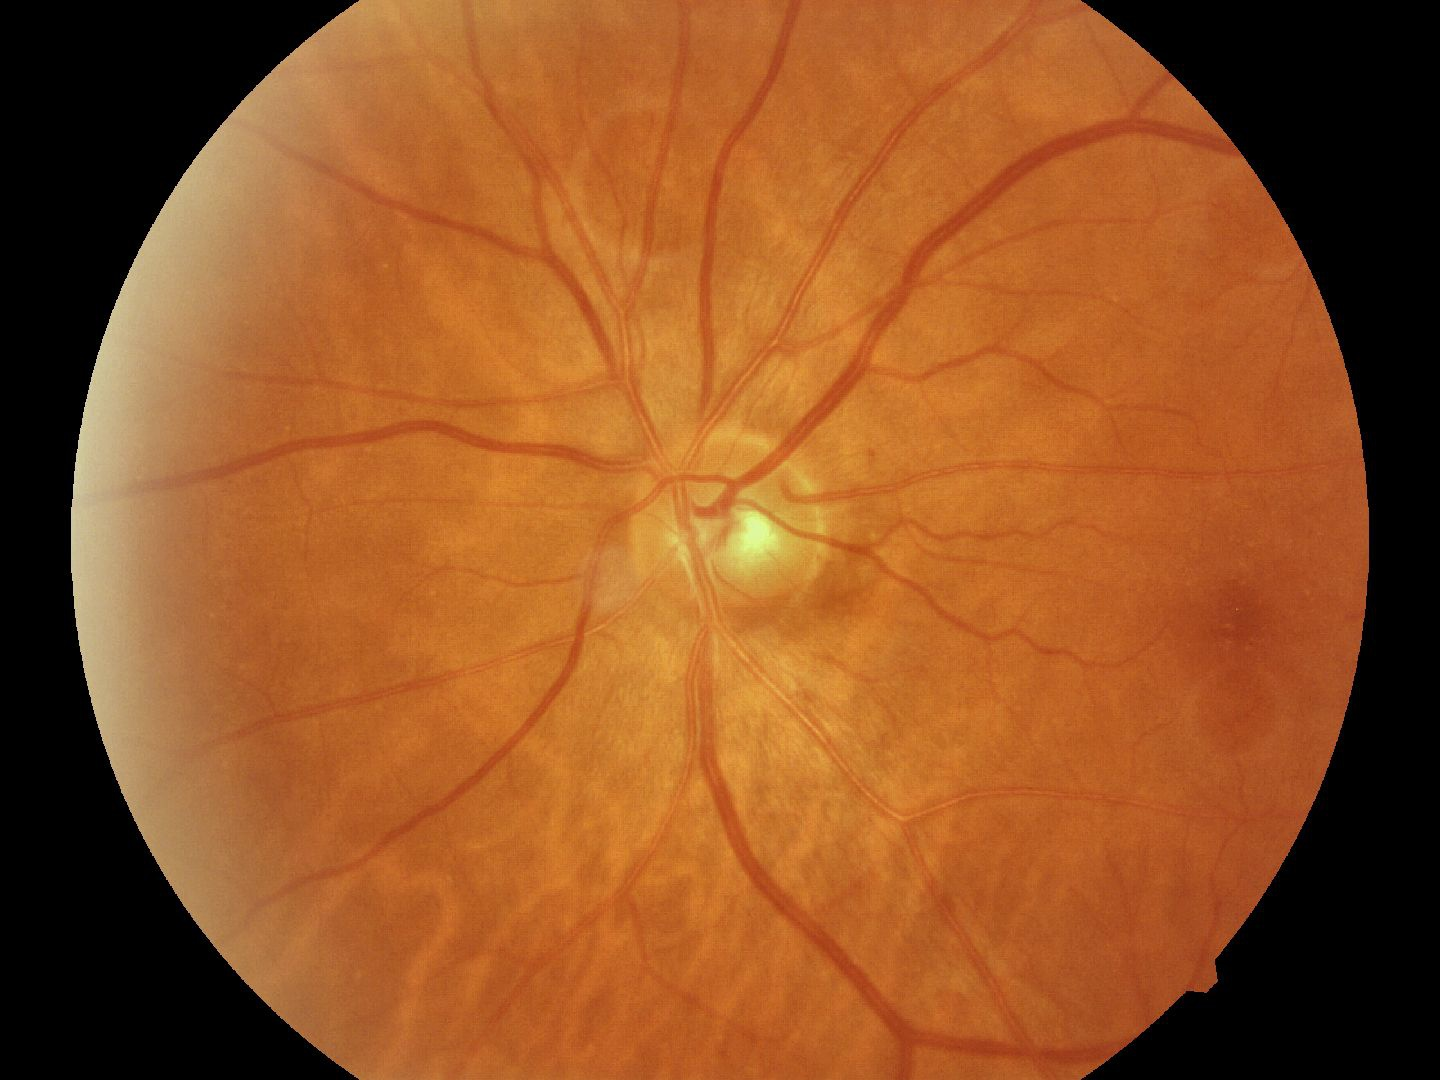Hemorrhages: (1195, 554, 1298, 695)
Optic-Disc: (632, 425, 821, 644)
Venules: (786, 162, 1001, 431), (726, 822, 905, 1038)
